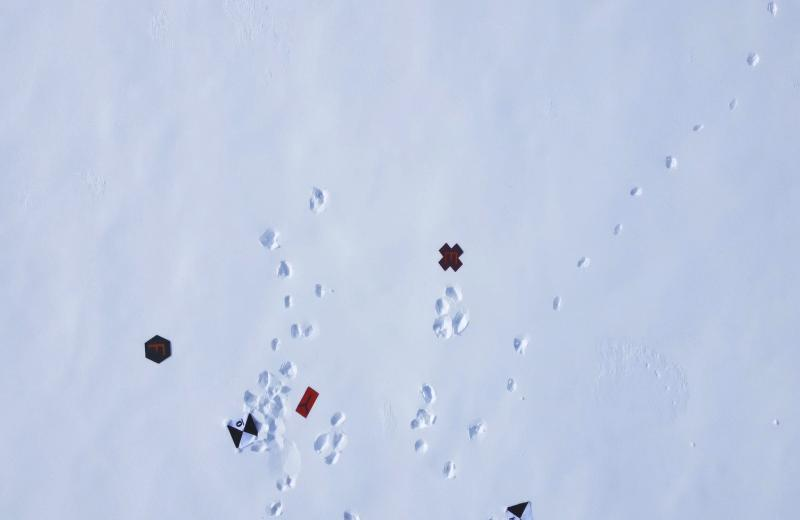Cross: (435, 238, 468, 278)
Hexagon: (142, 333, 176, 370)
Rectangle: (294, 381, 320, 421)
